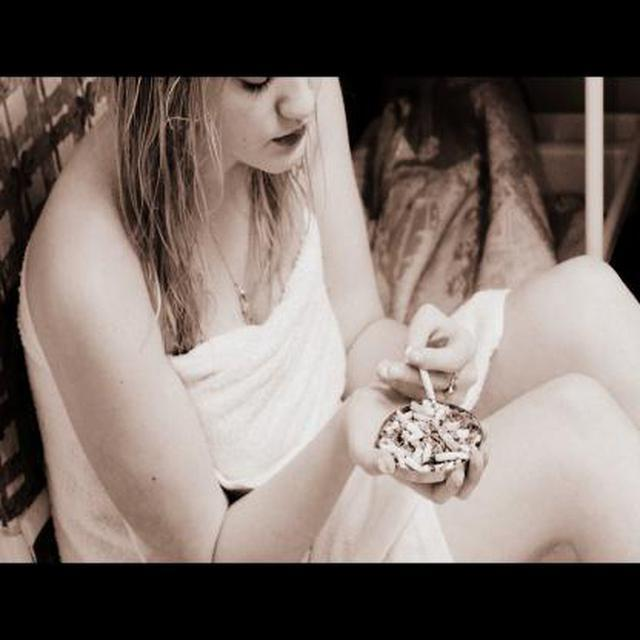smoking: (418, 358, 436, 406)
